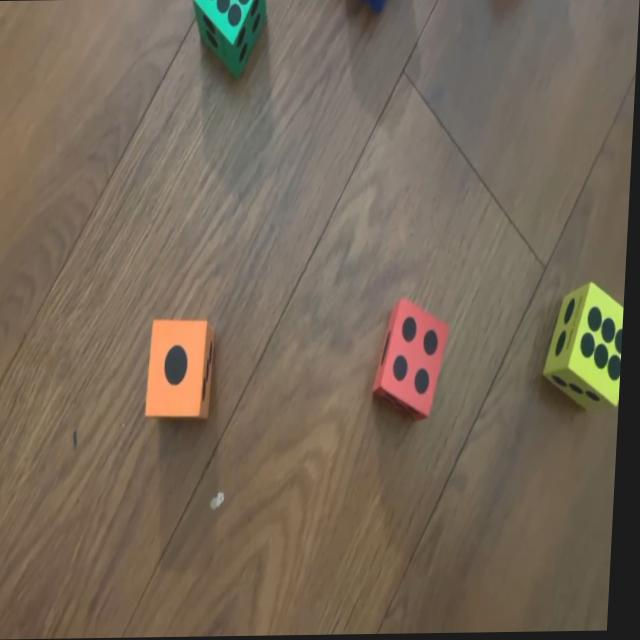red_block: (376, 295, 453, 422)
